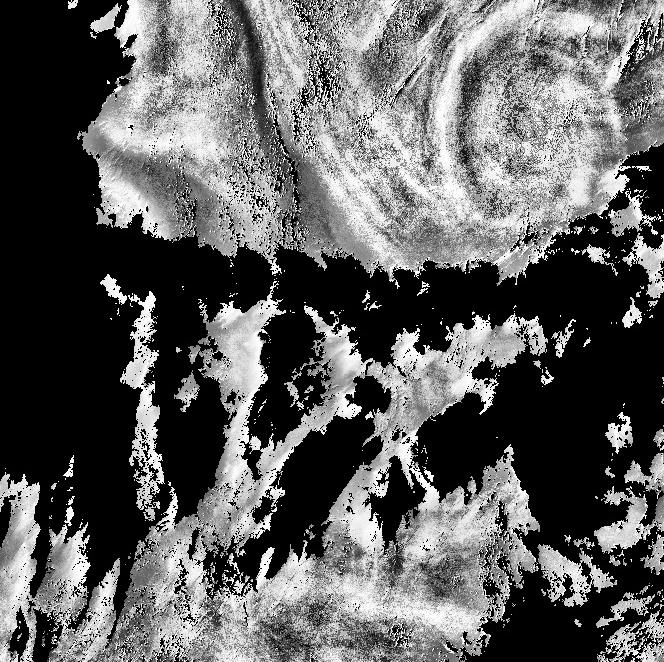CE: (434, 24, 610, 230)
